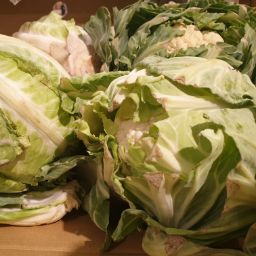Cauliflower: (41, 2, 256, 251), (1, 20, 117, 238), (94, 13, 254, 141)
